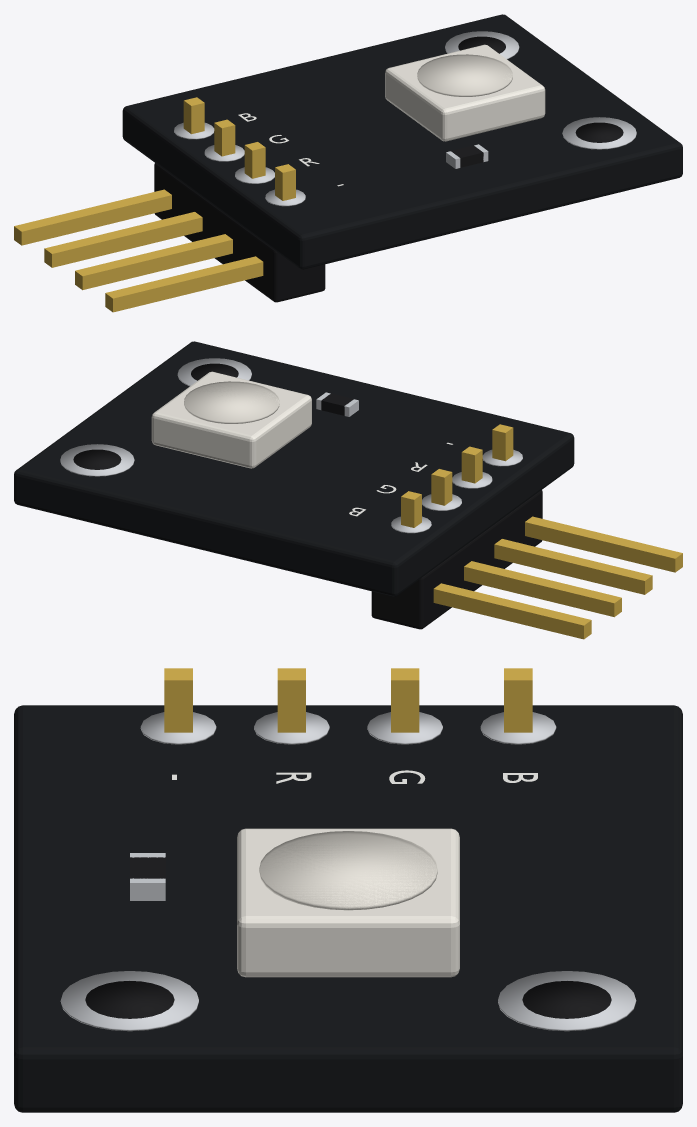
Rendered from smd-rgb-led.glb.
The picture shows the model from 3 angles, top to bottom: view 1: azimuth 30°, elevation 25°; view 2: azimuth 150°, elevation 25°; view 3: azimuth 270°, elevation 25°; orthographic projection. The views are drawn at different scales.
Parts seen in each view (by area): view 1: pcb.029, smd_package, header.029, pin_h.101, pin_h.099, pin_h.098, pin_h.100, led_dome.007, hole_ring.050, hole_ring.049, hole.050, pin_v.099 (+5 smaller); view 2: pcb.029, smd_package, header.029, pin_h.098, pin_h.100, pin_h.101, pin_h.099, led_dome.007, hole_ring.049, hole_ring.050, hole.049, pin_v.100 (+5 smaller); view 3: pcb.029, smd_package, led_dome.007, hole_ring.049, hole_ring.050, hole.049, hole.050, pin_v.098, pin_v.099, pin_v.100, pin_v.101, pad.098 (+5 smaller).
Boxes of the visible parts, x1,y1,x2,y2 form: pcb.029: (122,14,682,269); smd_package: (385,44,545,141); header.029: (154,163,325,302); pin_h.101: (105,256,263,312); pin_h.099: (44,212,202,267); pin_h.098: (14,189,171,245); pin_h.100: (75,234,232,290); led_dome.007: (417,54,512,96); hole_ring.050: (562,117,636,149); hole_ring.049: (445,31,519,59); hole.050: (575,122,623,142); pin_v.099: (214,119,235,156); pcb.029: (14,341,574,596); smd_package: (151,371,311,468); header.029: (371,490,542,629); pin_h.098: (433,583,591,639); pin_h.100: (494,539,652,594); pin_h.101: (525,516,682,572); pin_h.099: (464,561,621,617); led_dome.007: (184,381,279,423); hole_ring.049: (60,444,134,476); hole_ring.050: (177,358,251,386); hole.049: (73,449,121,469); pin_v.100: (461,446,482,483); pcb.029: (14,705,682,1112); smd_package: (237,828,459,977); led_dome.007: (259,831,437,910); hole_ring.049: (498,971,636,1031); hole_ring.050: (60,971,198,1031); hole.049: (522,981,611,1018); hole.050: (85,981,174,1018); pin_v.098: (504,668,532,732); pin_v.099: (391,668,419,732); pin_v.100: (277,668,305,732); pin_v.101: (164,668,192,732); pad.098: (480,712,556,744).
Size of the model in its own units: 0.0256 by 0.0057 by 0.015.
